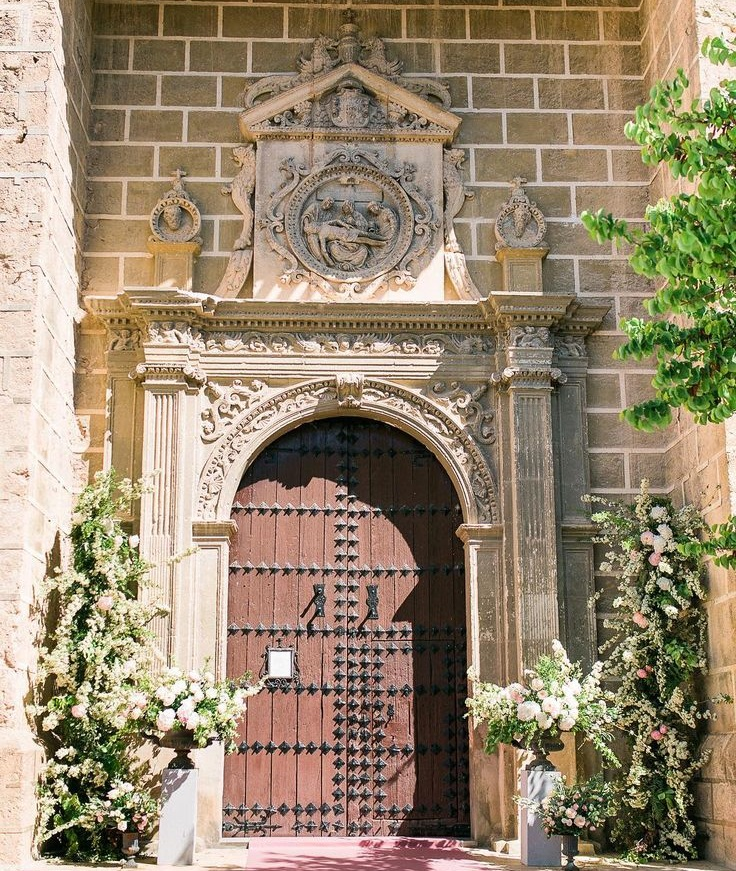arco-medio-punto: (210, 403, 489, 569)
fronton: (232, 61, 478, 151)
